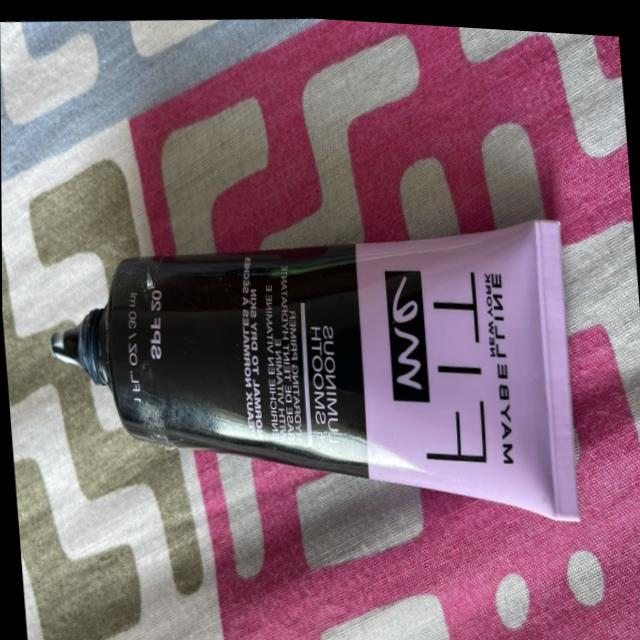foundation: (15, 181, 601, 557)
